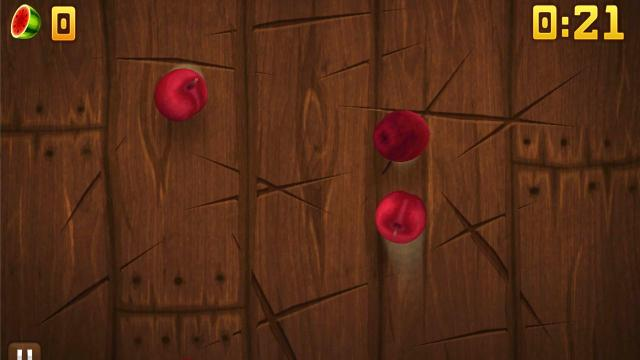fruit: (373, 109, 431, 162), (374, 189, 428, 244), (154, 68, 208, 122)
ignore: (8, 2, 44, 42)
